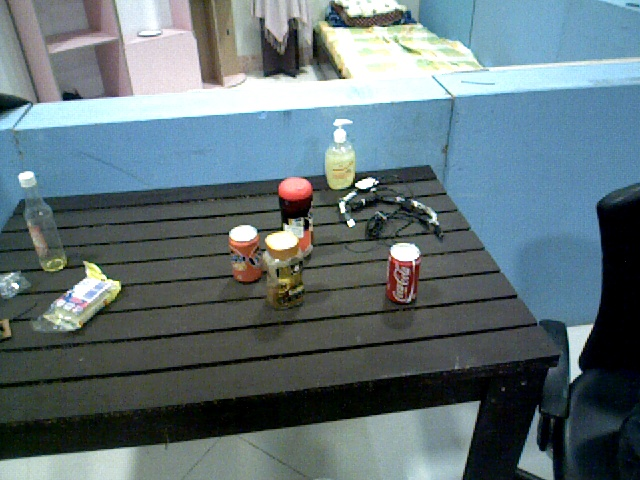coca: (387, 243, 421, 306)
coffee: (262, 231, 310, 311)
cream: (276, 177, 313, 259)
fanta: (227, 225, 262, 286)
